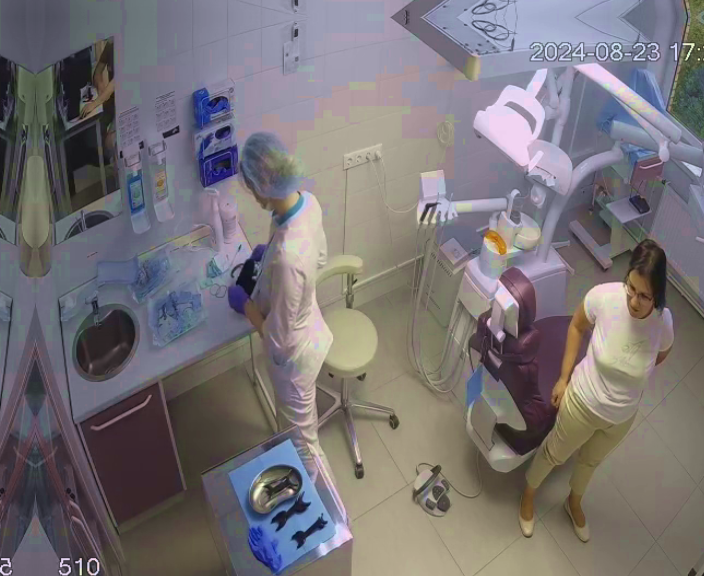Empty: (452, 271, 604, 473)
